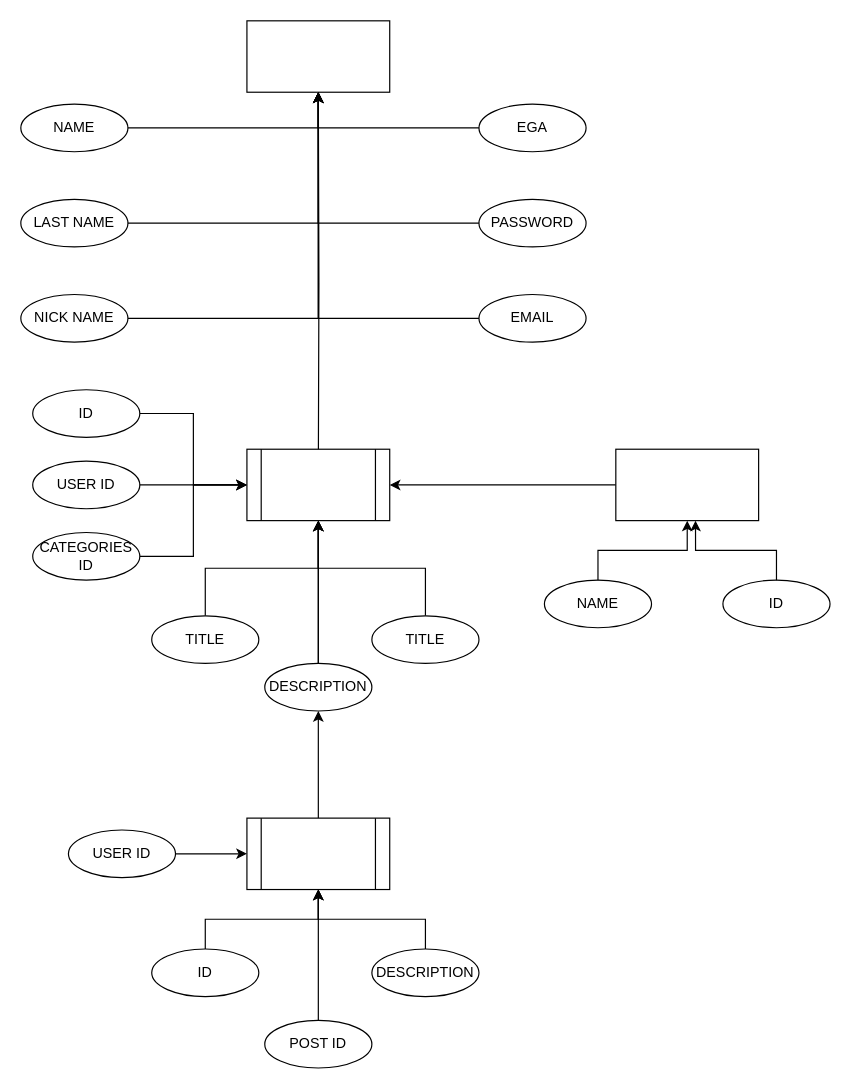
This 851x1089 diagram has some shape labels left out. The shapes that lost their labels are listed below. From the top down, each one's centre as x and y in pixels, then its label:
pixel 318 56: USERs
pixel 318 484: POSTs
pixel 687 484: CATEGORIEs
pixel 318 853: COMENTs
